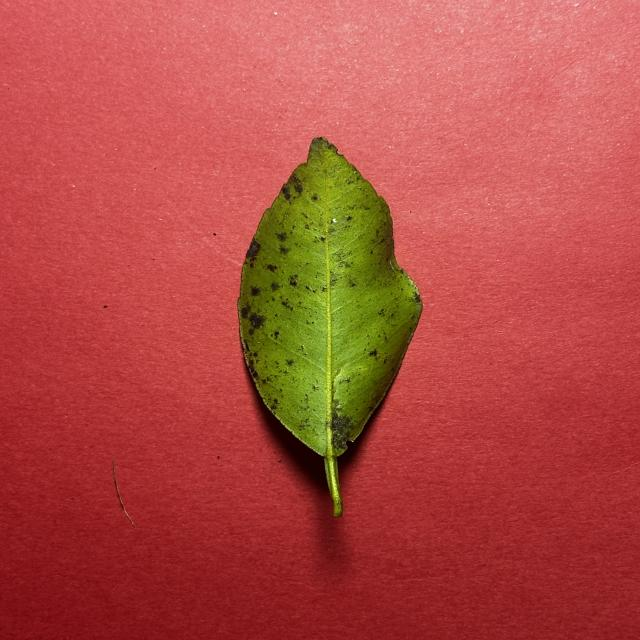sooty_mold: (237, 137, 422, 516)
